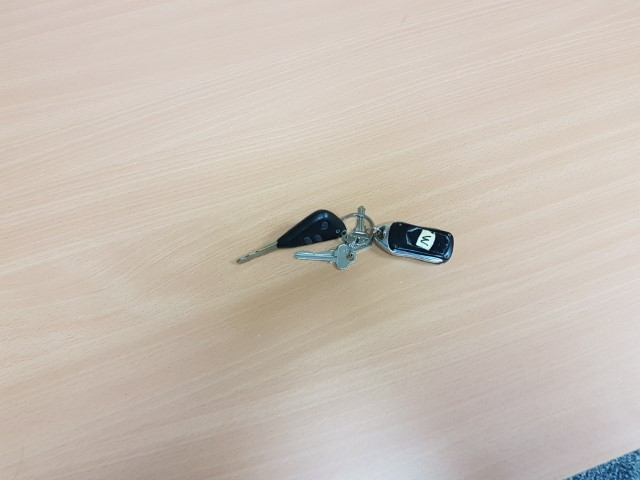key: (237, 208, 347, 265)
